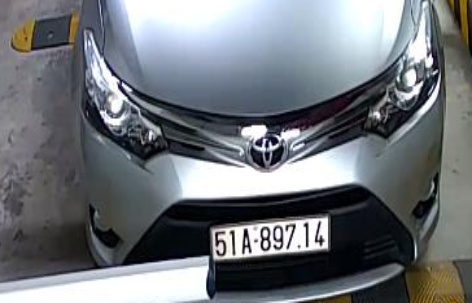plate: (208, 216, 334, 266)
